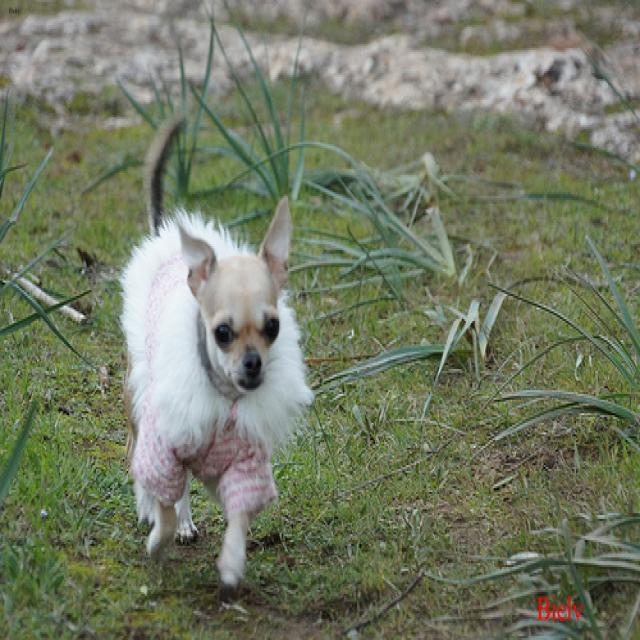dog-chihuahua: (106, 190, 310, 594)
